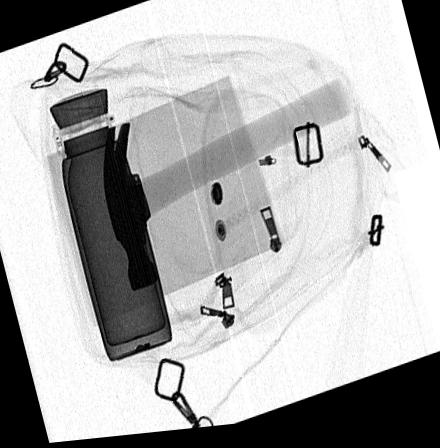Hammer: (101, 84, 352, 295)
